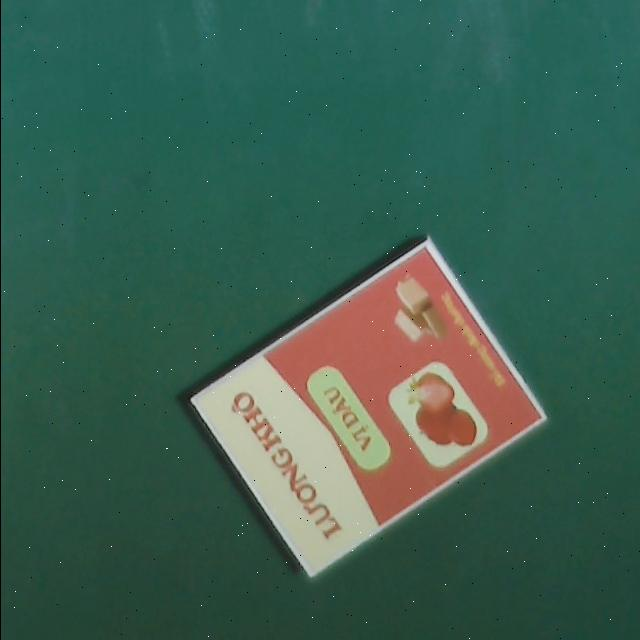dau: (186, 235, 550, 579)
